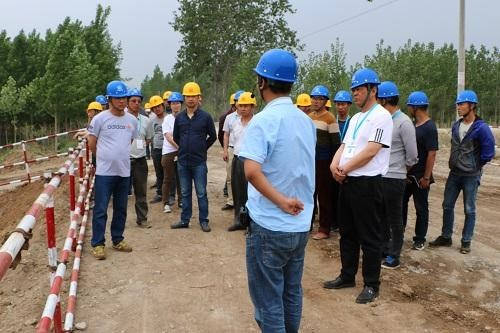blue: (255, 48, 296, 101), (349, 68, 380, 108), (105, 79, 129, 114), (405, 91, 431, 123), (376, 80, 400, 114), (454, 90, 479, 122), (309, 83, 330, 112), (332, 89, 352, 118), (166, 90, 184, 115), (126, 88, 142, 114)
yellow: (180, 80, 202, 110), (236, 90, 256, 119), (148, 93, 167, 119), (85, 99, 103, 120), (295, 92, 312, 114)
